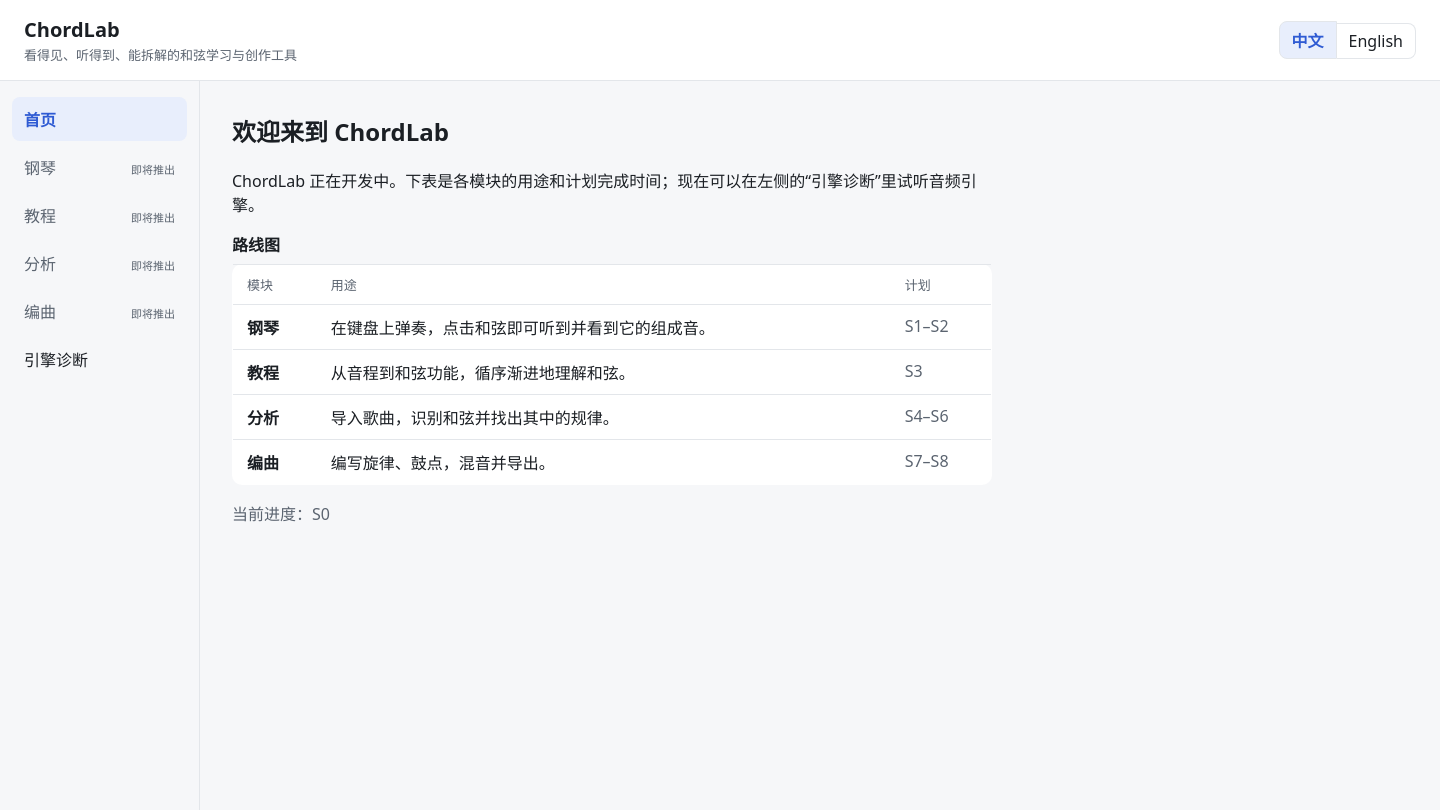
App shell › switches to English immediately and remembers the choice
The image size is (1440, 810).
Click the button "English". click: (1376, 41)
box: 1337,23 -> 1416,59
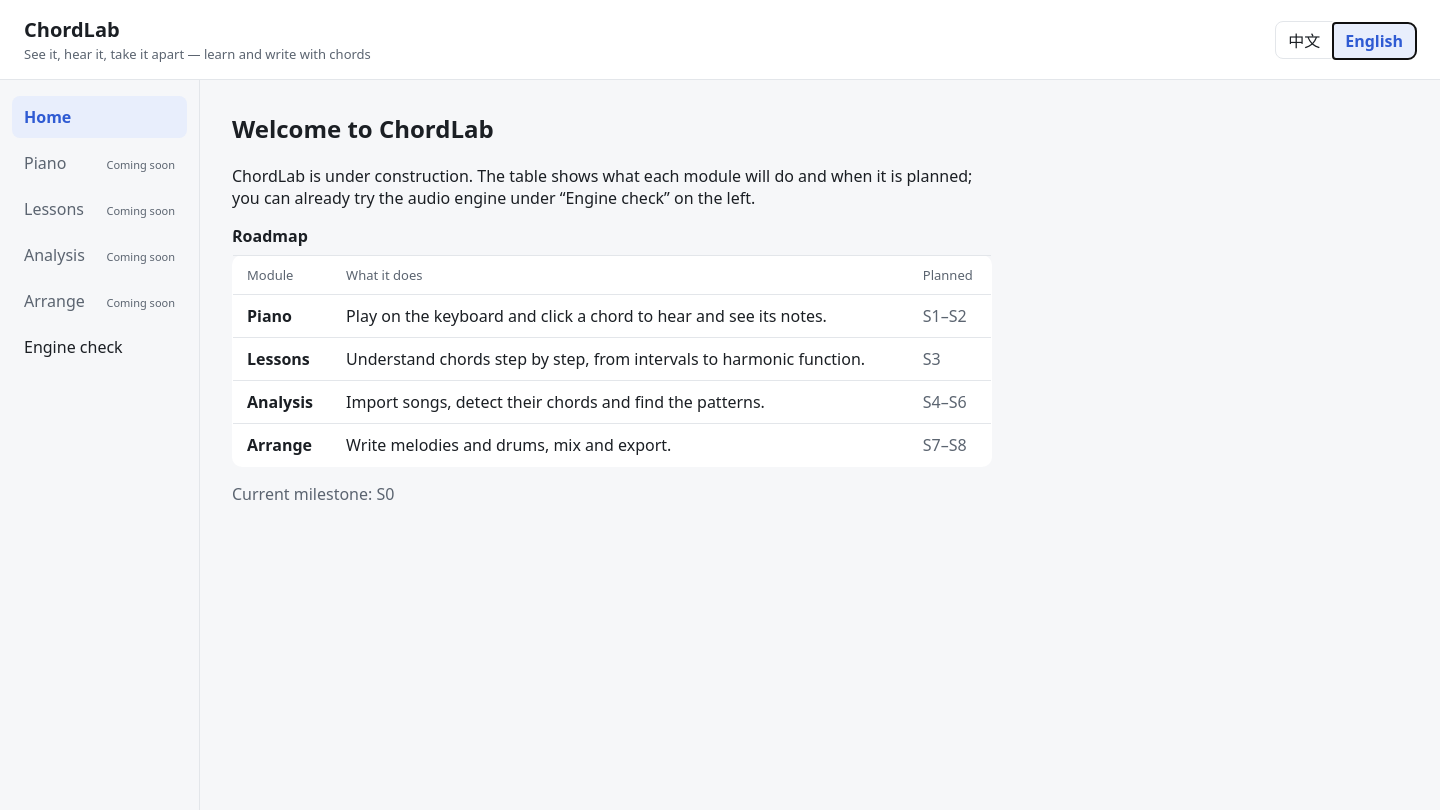
Expected: the navigation bar shows "Piano", 12,142 -> 187,184
Expected: the button "钢琴" is gone
